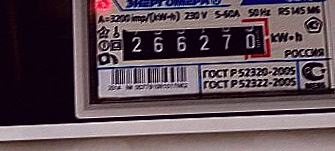0: (243, 32, 256, 49)
2: (128, 35, 142, 53), (197, 33, 209, 51)
6: (151, 35, 164, 53), (174, 35, 187, 53)
7: (220, 32, 232, 50)
screen: (111, 14, 275, 70)
